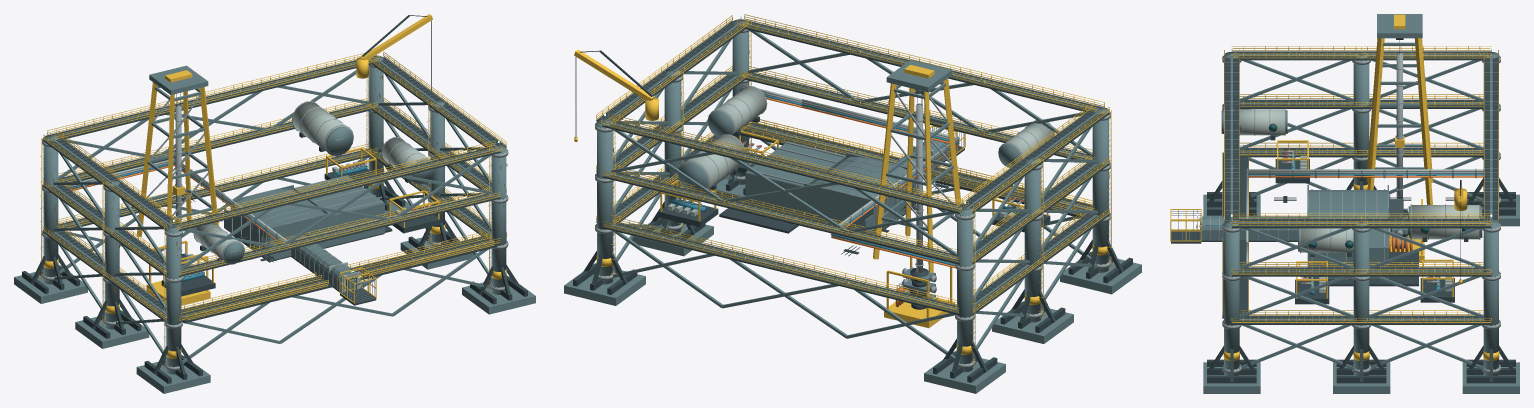
File: rig-full.glb
3 views of the same model, side by side, from view 1: azimuth 30°, elevation 25°; view 2: azimuth 150°, elevation 25°; view 3: azimuth 270°, elevation 25° (orthographic). The views are drawn at different scales.
Visible parts, largest first — view 1: exterior_Hull, exterior_Steel, exterior_Safety, exterior_Metal, interior_Hull, exterior_HullLight, interior_Metal, exterior_Blue; view 2: exterior_Hull, exterior_Steel, exterior_Safety, exterior_Metal, interior_Hull, exterior_HullLight, interior_Metal, exterior_Blue, exterior_Orange, exterior_Black; view 3: exterior_Hull, exterior_Steel, exterior_Safety, exterior_Metal, interior_Hull, exterior_HullLight, exterior_Orange, exterior_Blue, exterior_Black, interior_Metal.
Part boxes in pixels (<box>): exterior_Hull: <box>14,55,535,393</box>; exterior_Steel: <box>22,15,527,383</box>; exterior_Safety: <box>40,14,506,370</box>; exterior_Metal: <box>42,55,508,370</box>; interior_Hull: <box>224,175,384,291</box>; exterior_HullLight: <box>64,102,485,275</box>; interior_Metal: <box>230,175,383,292</box>; exterior_Blue: <box>68,162,367,281</box>; exterior_Hull: <box>564,19,1141,393</box>; exterior_Steel: <box>573,20,1132,382</box>; exterior_Safety: <box>574,14,1111,367</box>; exterior_Metal: <box>595,17,1110,368</box>; interior_Hull: <box>745,140,946,234</box>; exterior_HullLight: <box>668,84,1053,225</box>; interior_Metal: <box>747,141,947,231</box>; exterior_Blue: <box>670,89,1019,265</box>; exterior_Orange: <box>739,91,958,307</box>; exterior_Black: <box>575,50,1110,364</box>; exterior_Hull: <box>1203,14,1519,393</box>; exterior_Steel: <box>1171,38,1515,383</box>; exterior_Safety: <box>1170,14,1499,360</box>; exterior_Metal: <box>1182,49,1500,373</box>; interior_Hull: <box>1201,185,1403,279</box>; exterior_HullLight: <box>1240,109,1483,292</box>; exterior_Orange: <box>1246,176,1483,278</box>; exterior_Blue: <box>1248,156,1483,294</box>; exterior_Black: <box>1200,40,1500,369</box>; interior_Metal: <box>1210,189,1388,279</box>.
Bounding box in the file's own units: 125 × 68.7 × 91.71.
